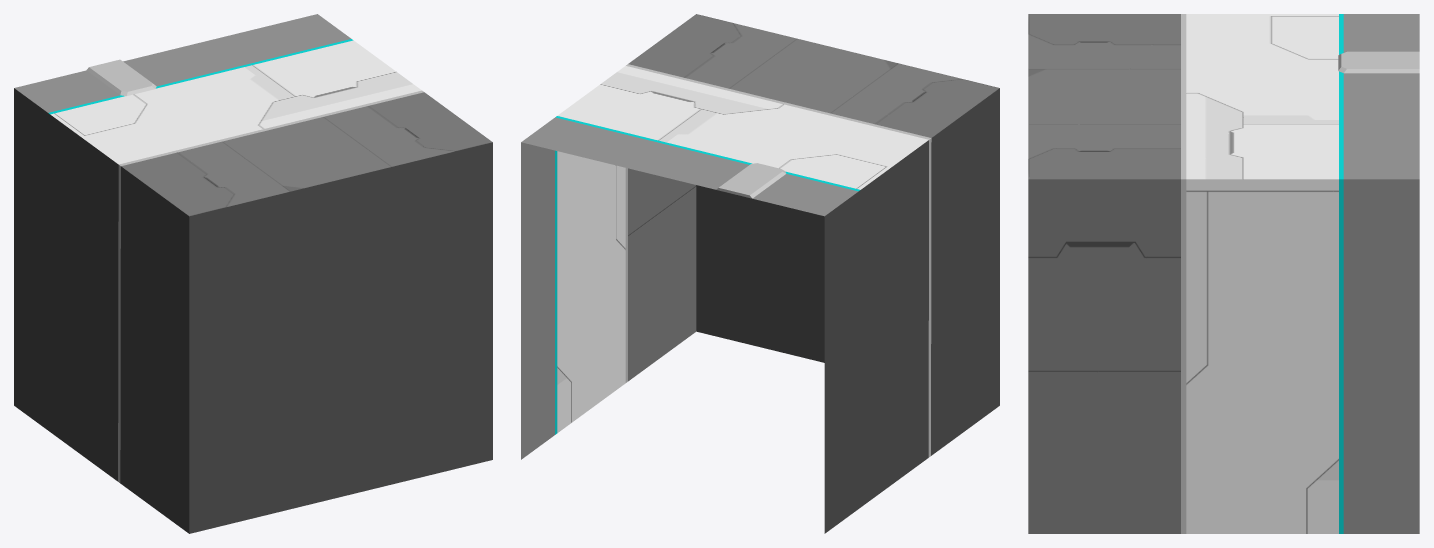
The model's file is SM_Floor_Interior_5x5_2.fbx.
3 views of the same model, side by side, from view 1: azimuth 30°, elevation 25°; view 2: azimuth 150°, elevation 25°; view 3: azimuth 270°, elevation 25° (orthographic). The views are drawn at different scales.
Parts seen in each view (by area): view 1: SM_Floor_Interior_5x5_2; view 2: SM_Floor_Interior_5x5_2; view 3: SM_Floor_Interior_5x5_2.
Boxes of the visible parts, x1,y1,x2,y2 form: SM_Floor_Interior_5x5_2: (14,14,492,533); SM_Floor_Interior_5x5_2: (521,14,999,533); SM_Floor_Interior_5x5_2: (1028,14,1419,533).
Bounding box in the file's own units: 500 × 504 × 500.
